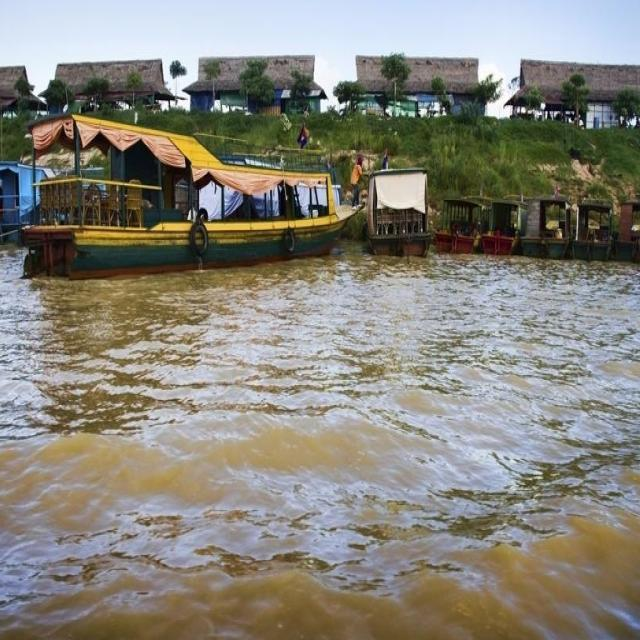boat: (31, 198, 362, 282), (361, 170, 436, 252)
